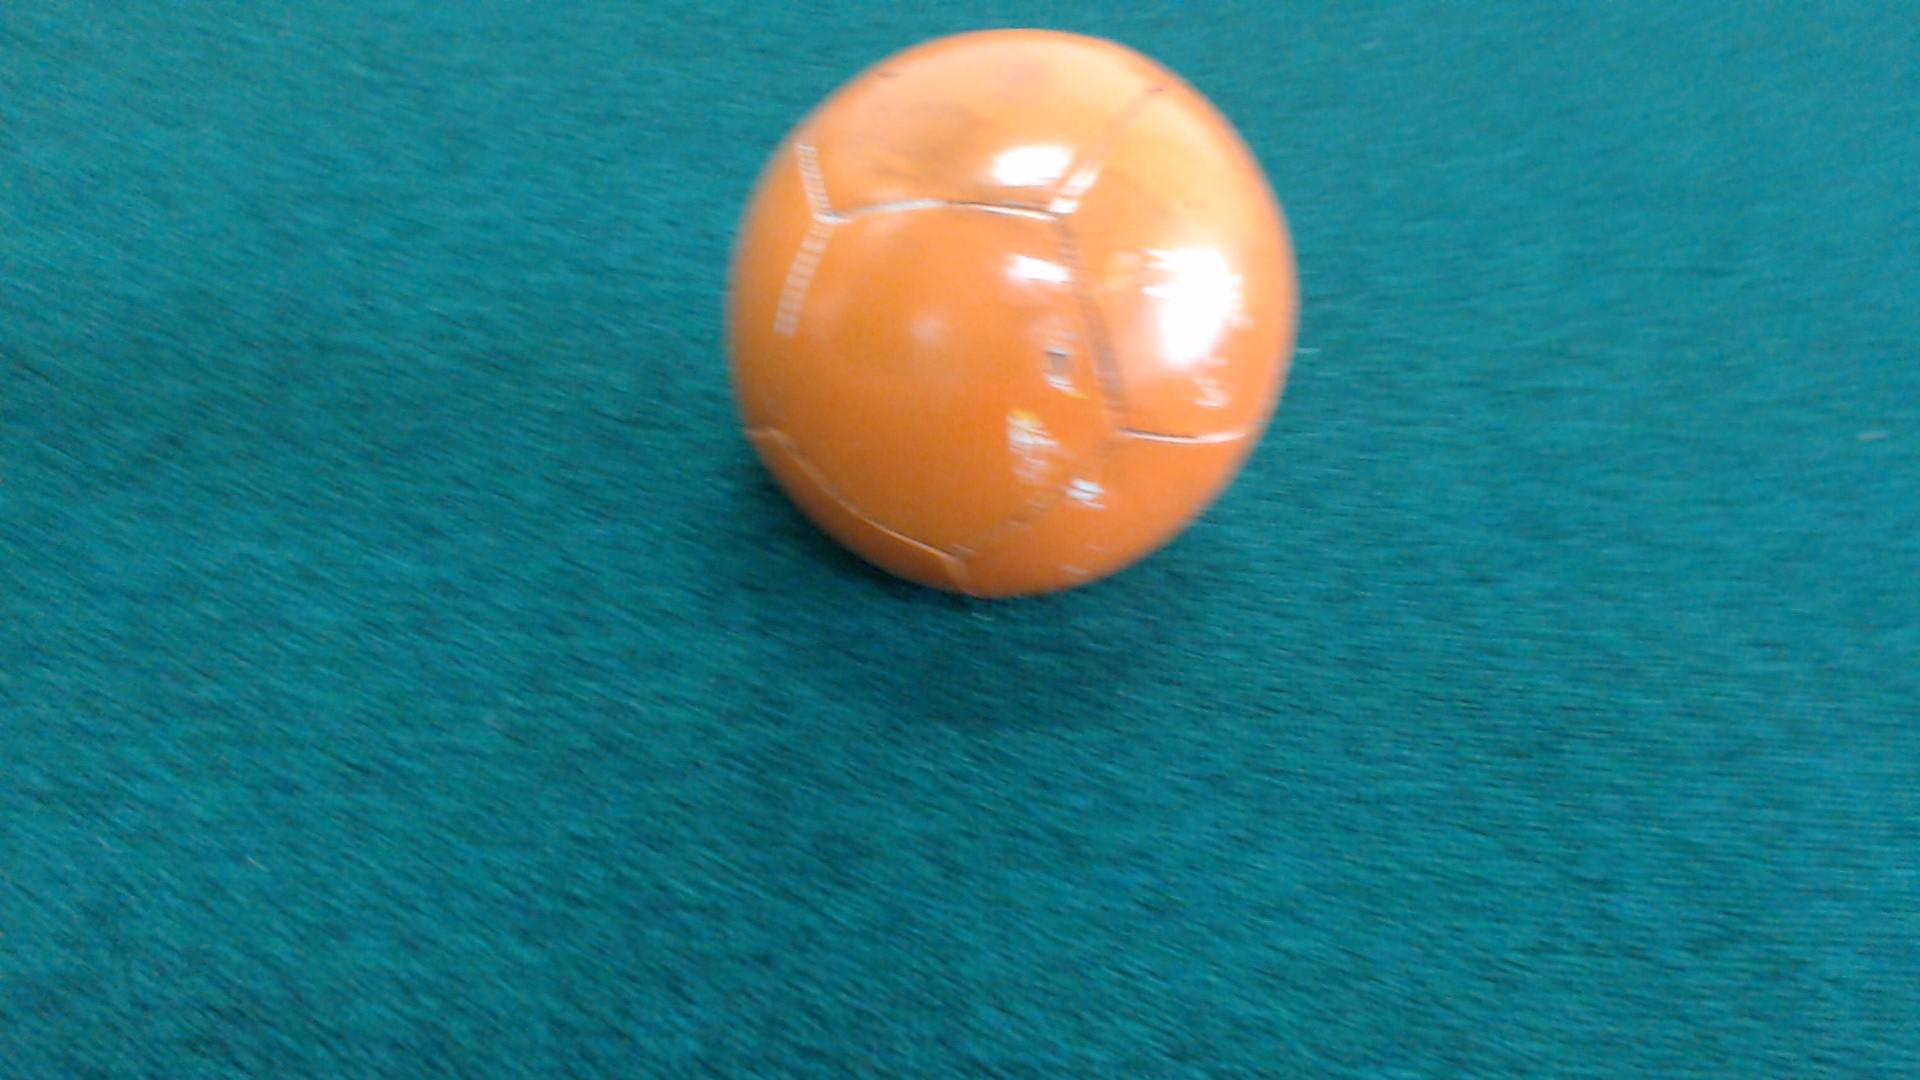bola: (671, 0, 1323, 673)
